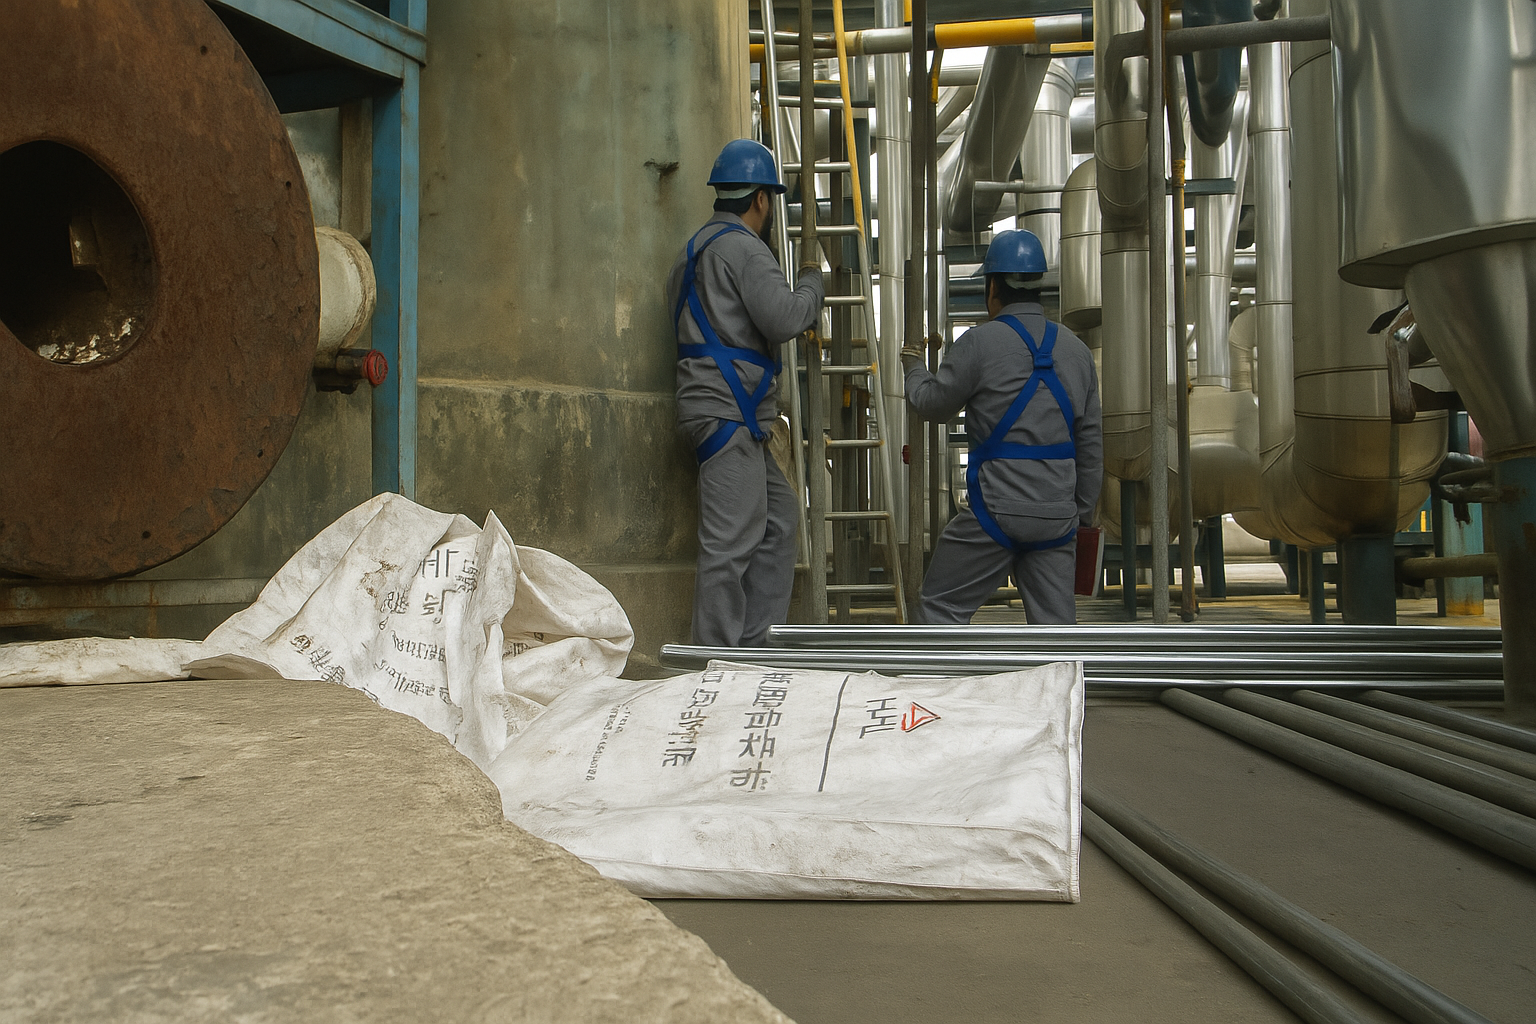safety_belt: (658, 208, 794, 477), (960, 302, 1090, 565)
